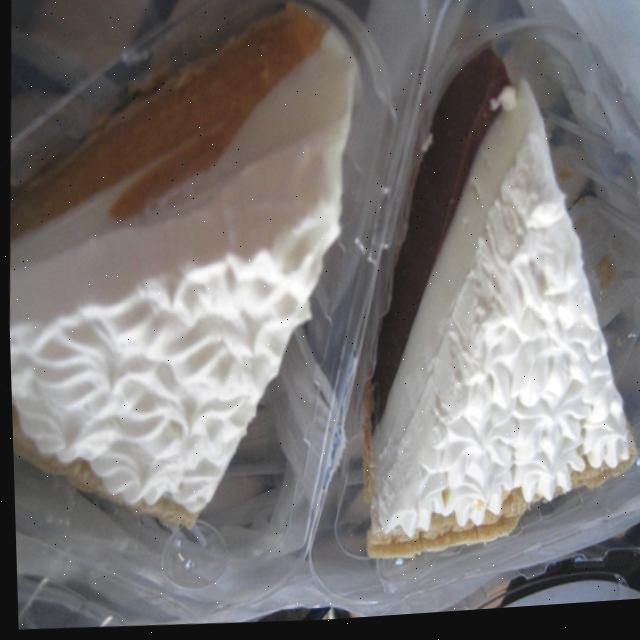蛋糕甜品: (10, 0, 640, 627)
